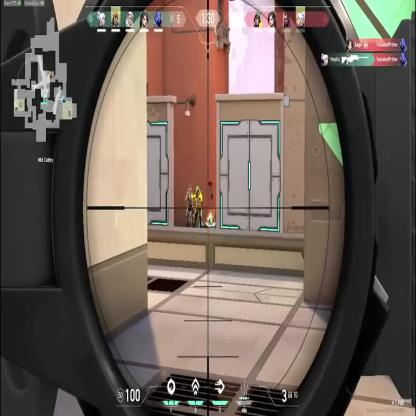enemy: (184, 182, 194, 227), (193, 186, 203, 230)
enemy_head: (188, 185, 192, 194), (196, 186, 199, 196)
